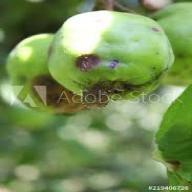apple: (48, 12, 172, 100), (5, 32, 111, 116)
